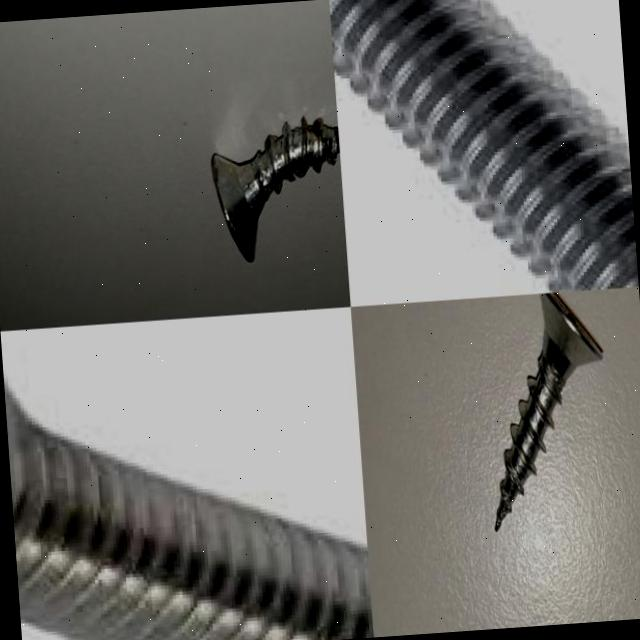Screw: (3, 371, 373, 640), (329, 0, 638, 292), (494, 292, 602, 532), (212, 118, 340, 263)
